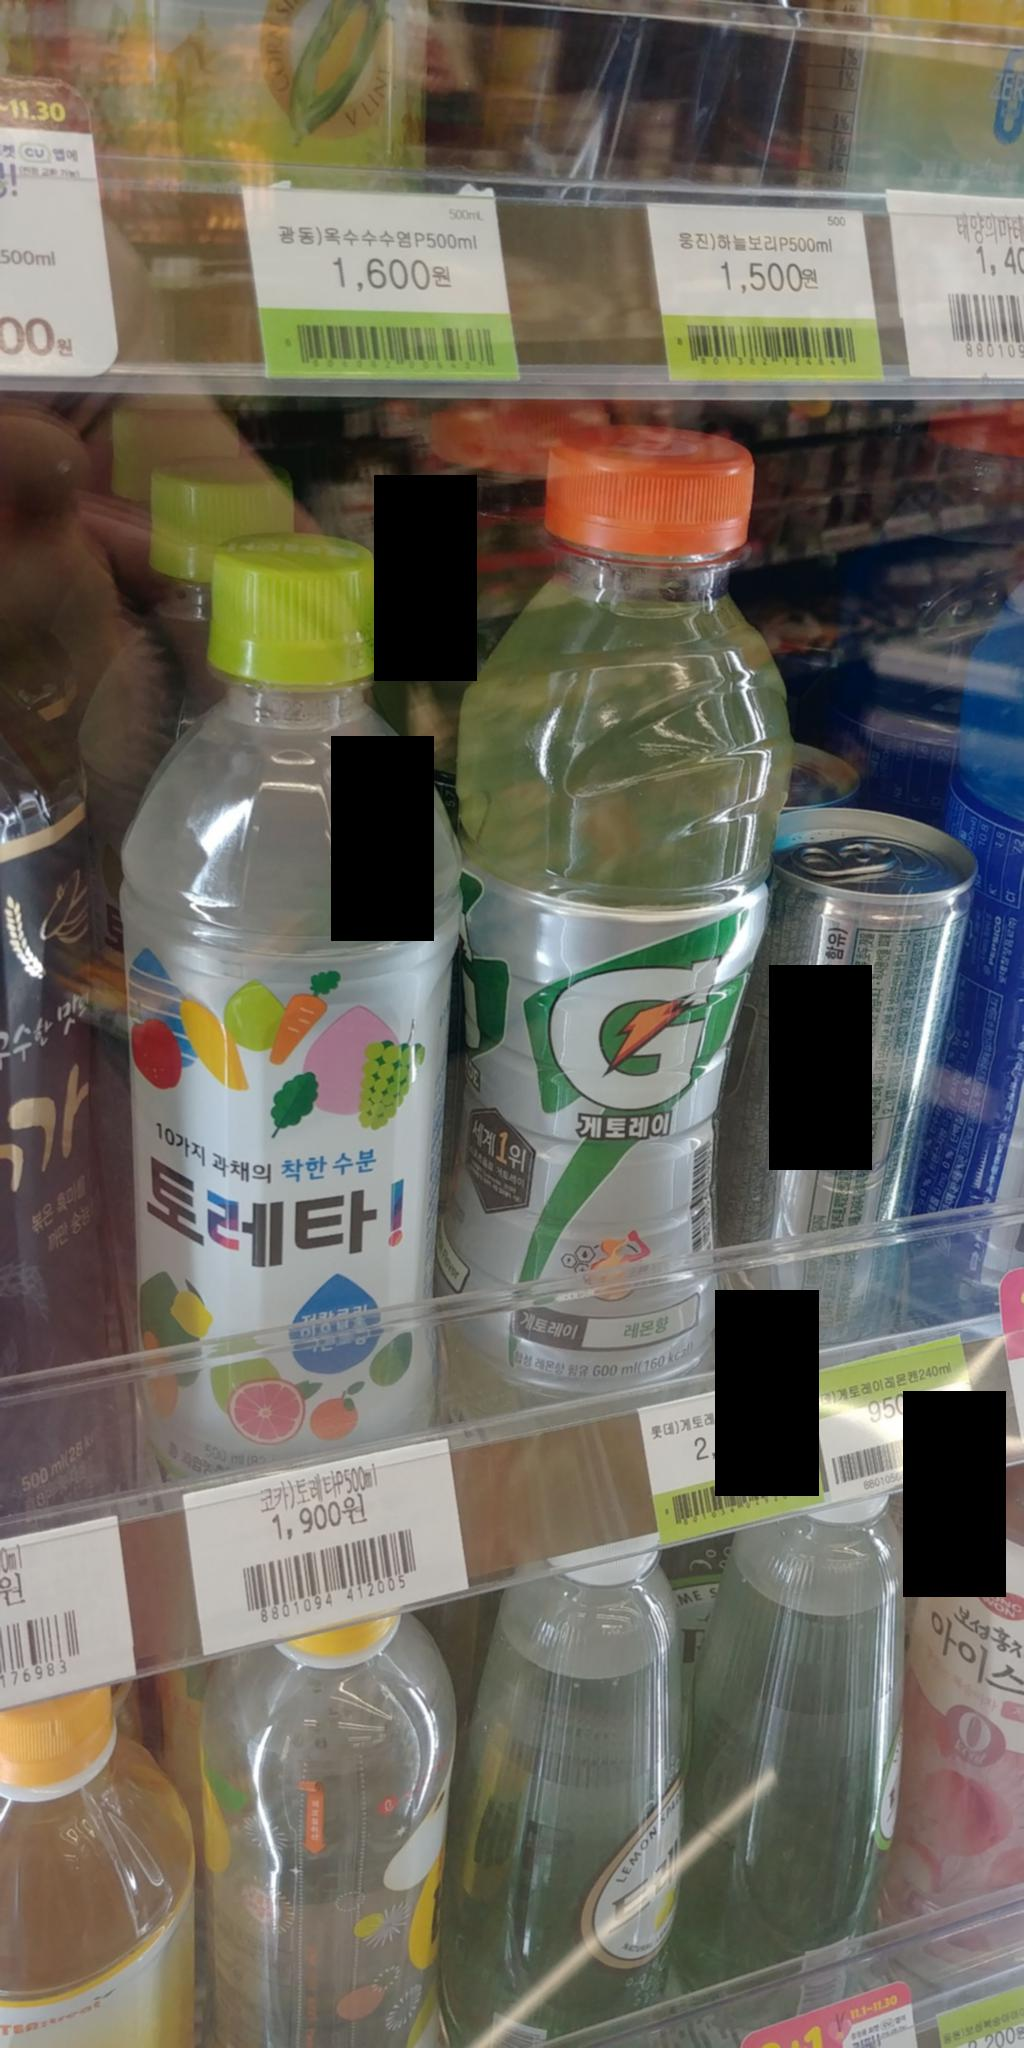gatorade_lemon: (475, 414, 794, 1415)
toreta: (107, 526, 469, 1472)
